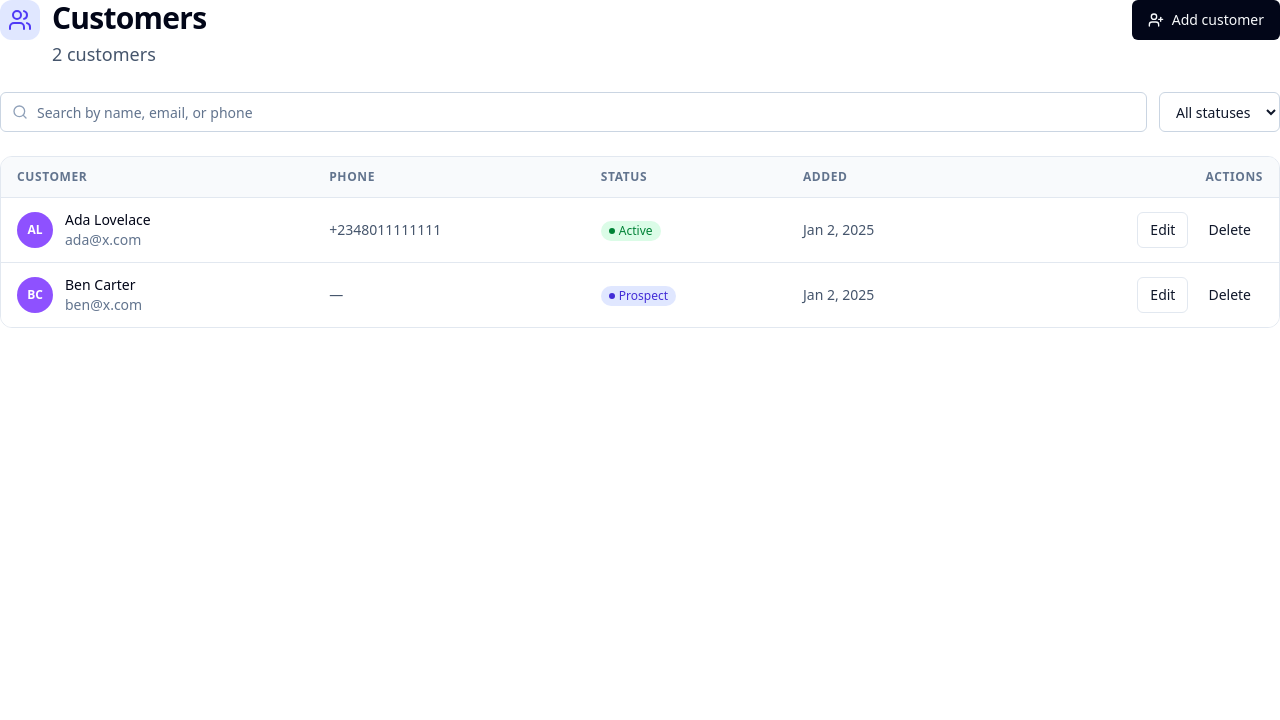
CustomersPage › keeps the form open with the server error when creation fails
The width and height of the screenshot is (1280, 720).
expect the button "Ada Lovelace" is shown: met, box [65, 210, 151, 230]
Click the button "Add customer".
click(1206, 20)  # box [1132, 0, 1279, 40]
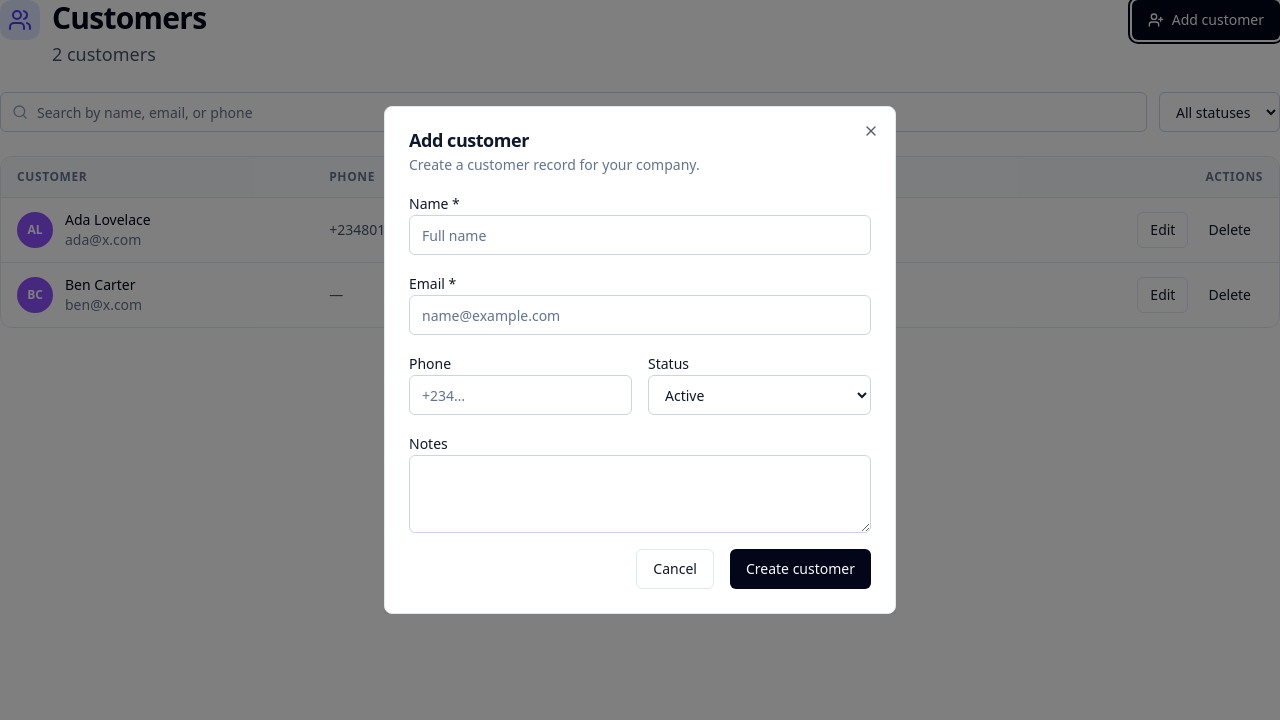
Type "Ada Again" into the field labelled "Name *".
click(640, 235); type("Ada Again")  # box [409, 215, 871, 255]
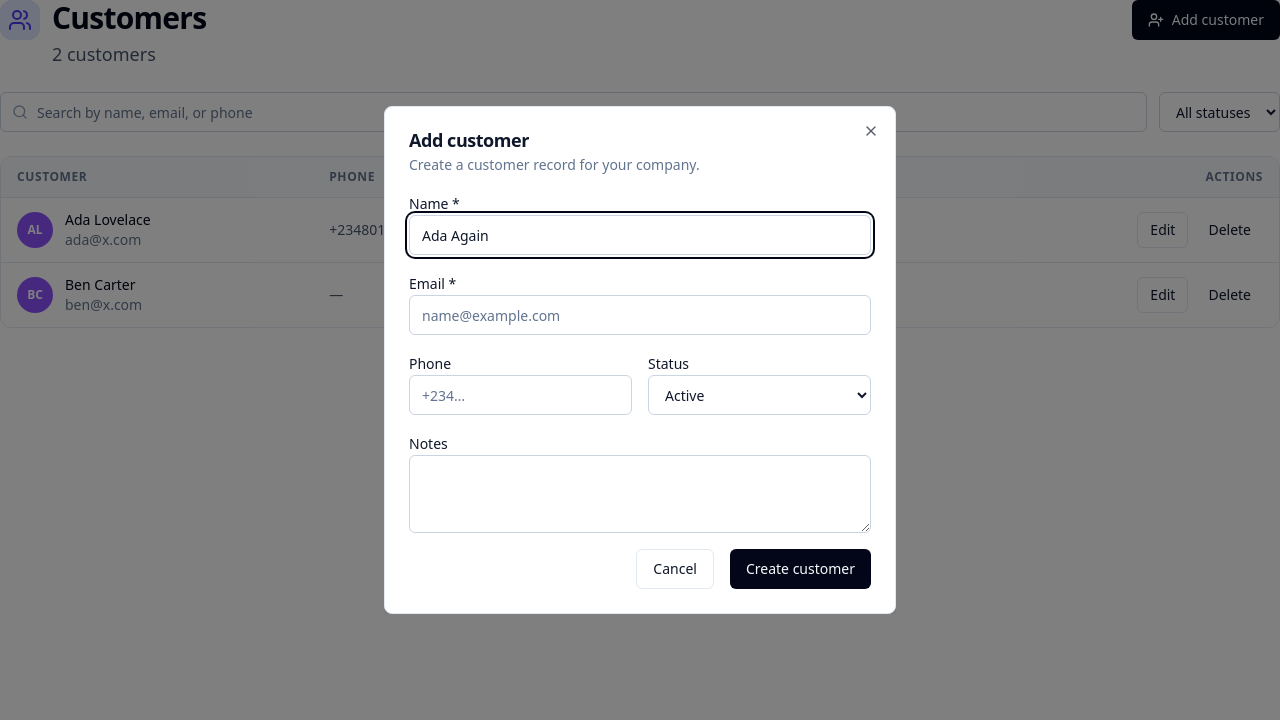
Type "ada@x.com" into the field labelled "Email *".
click(640, 315); type("ada@x.com")  # box [409, 295, 871, 335]
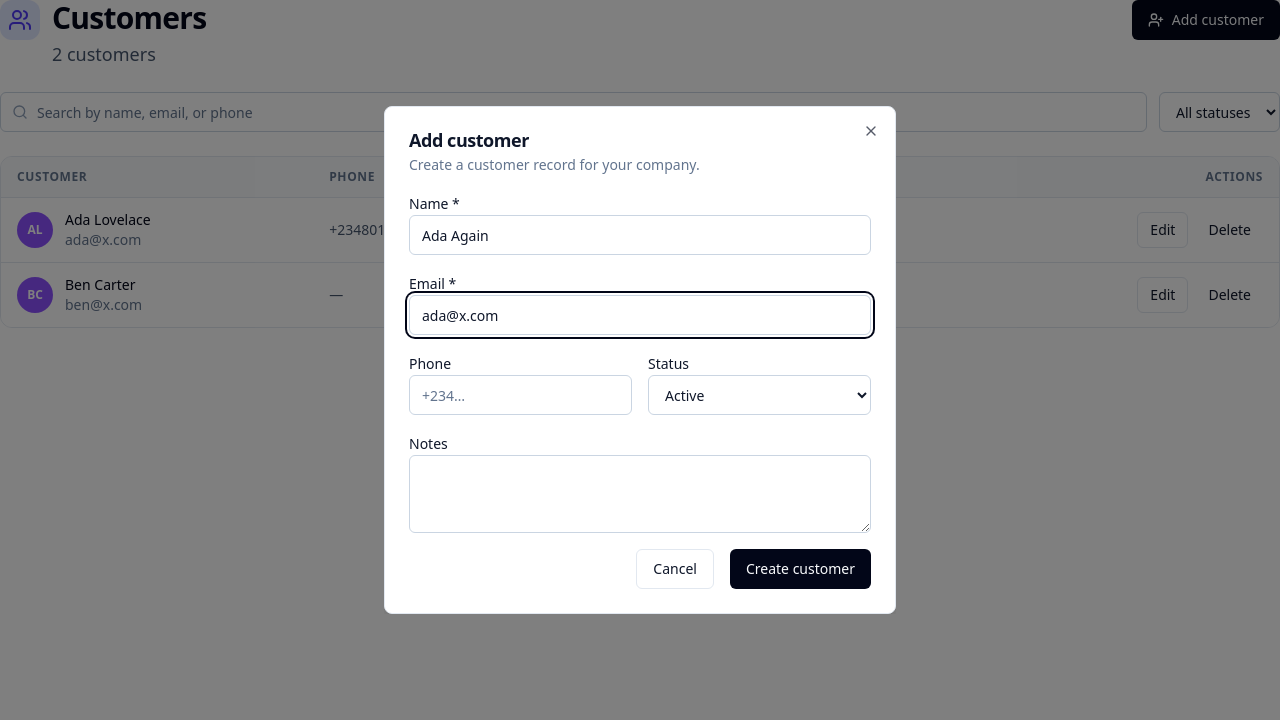
Click the button "Create customer".
click(800, 569)  # box [730, 549, 871, 589]
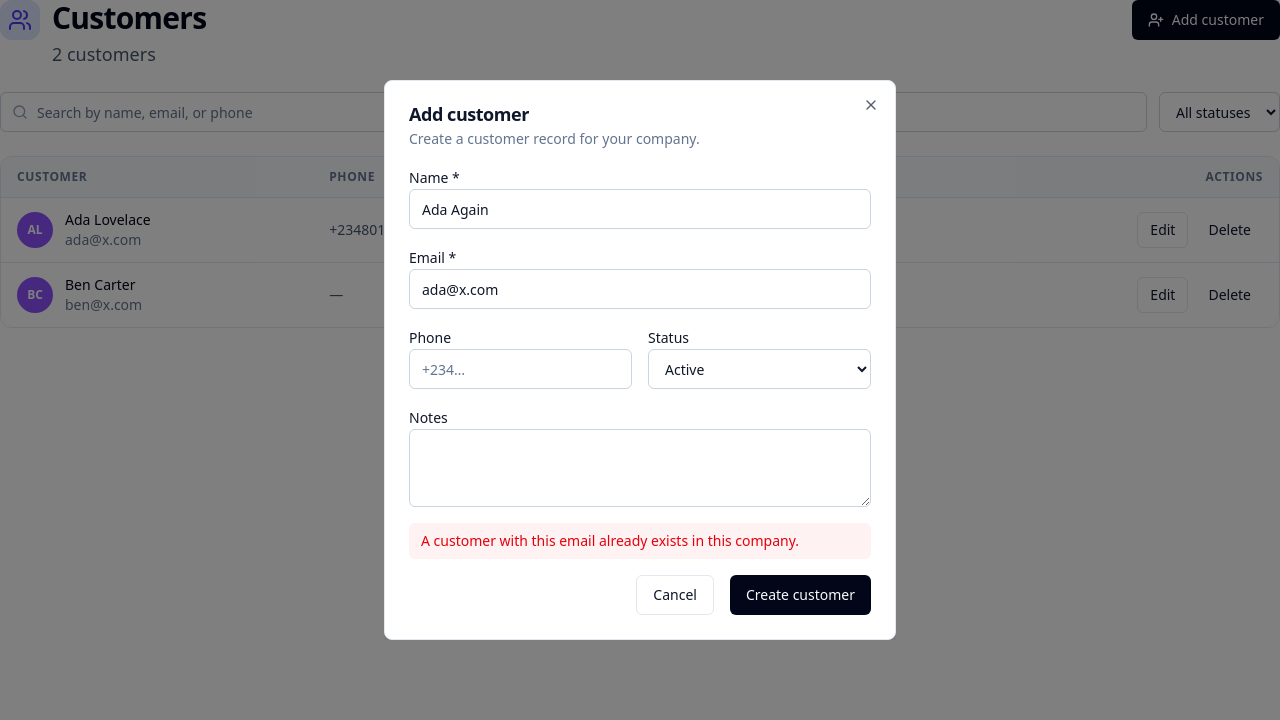
expect the text "A customer with this email already exists in this company." is shown: met, box [409, 523, 871, 559]
